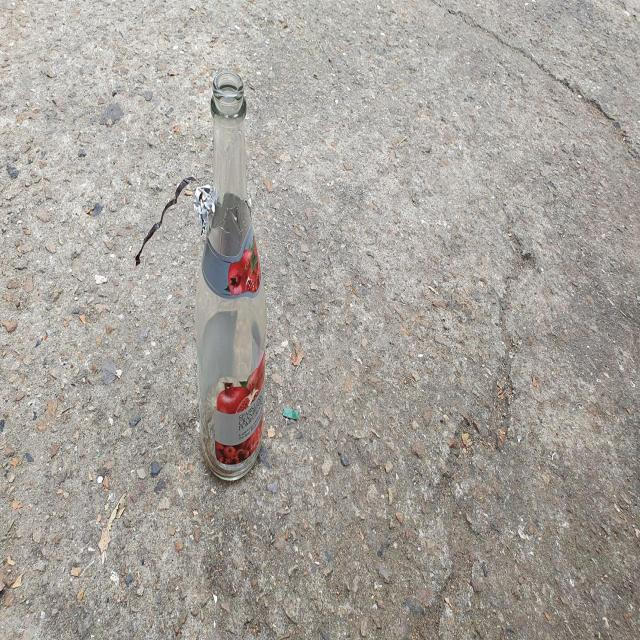glass: (194, 69, 266, 480)
